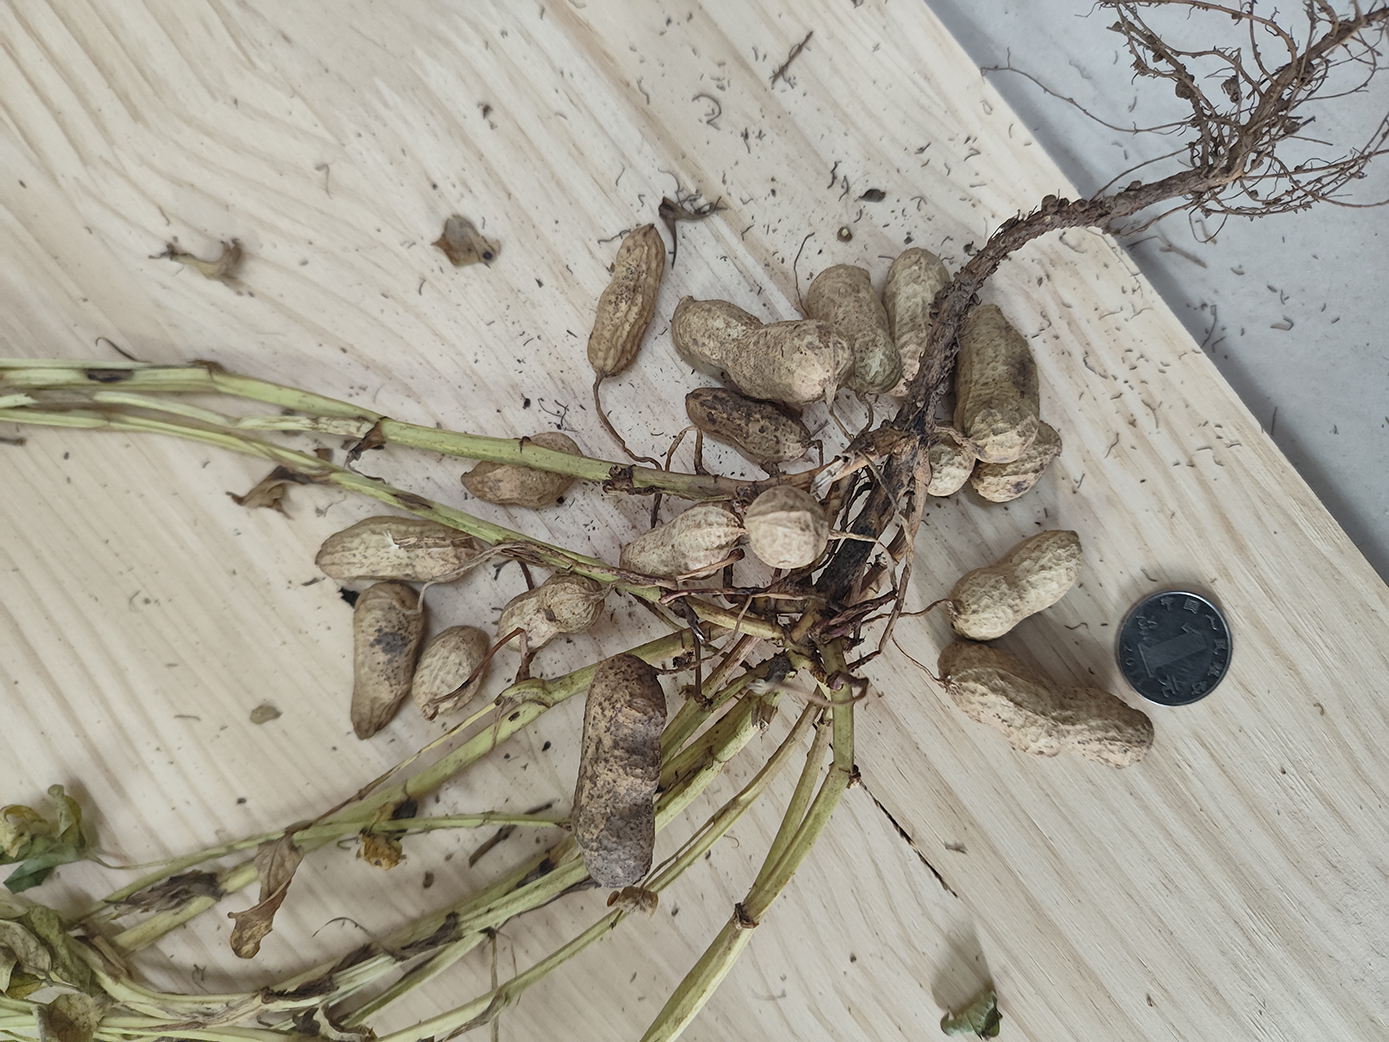h: (937, 645, 1155, 769), (673, 296, 850, 404), (949, 531, 1081, 642), (954, 306, 1037, 460), (807, 263, 899, 394), (314, 514, 483, 584), (588, 225, 665, 375), (354, 583, 421, 734), (886, 250, 953, 391), (617, 500, 741, 576), (459, 435, 583, 507), (497, 575, 605, 650), (413, 626, 490, 720), (974, 419, 1062, 502), (746, 487, 832, 568), (907, 422, 970, 497)
l: (572, 655, 668, 889)
